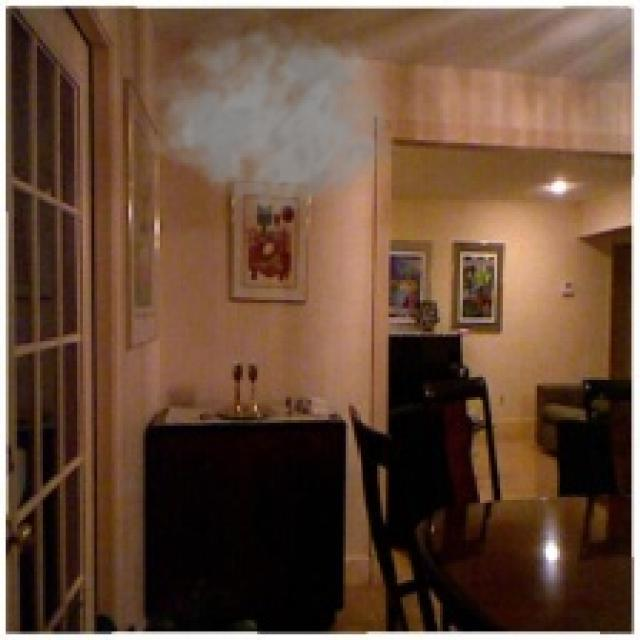Smoke: (137, 2, 400, 218)
